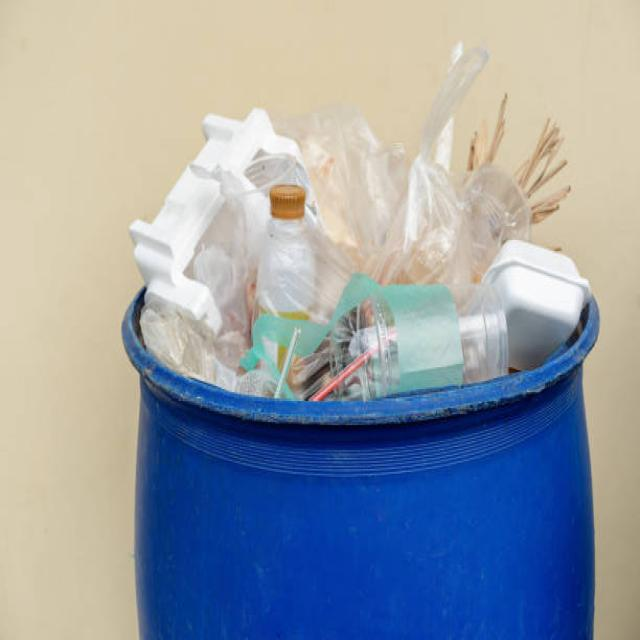plastic: (280, 127, 484, 386), (489, 221, 571, 342)
